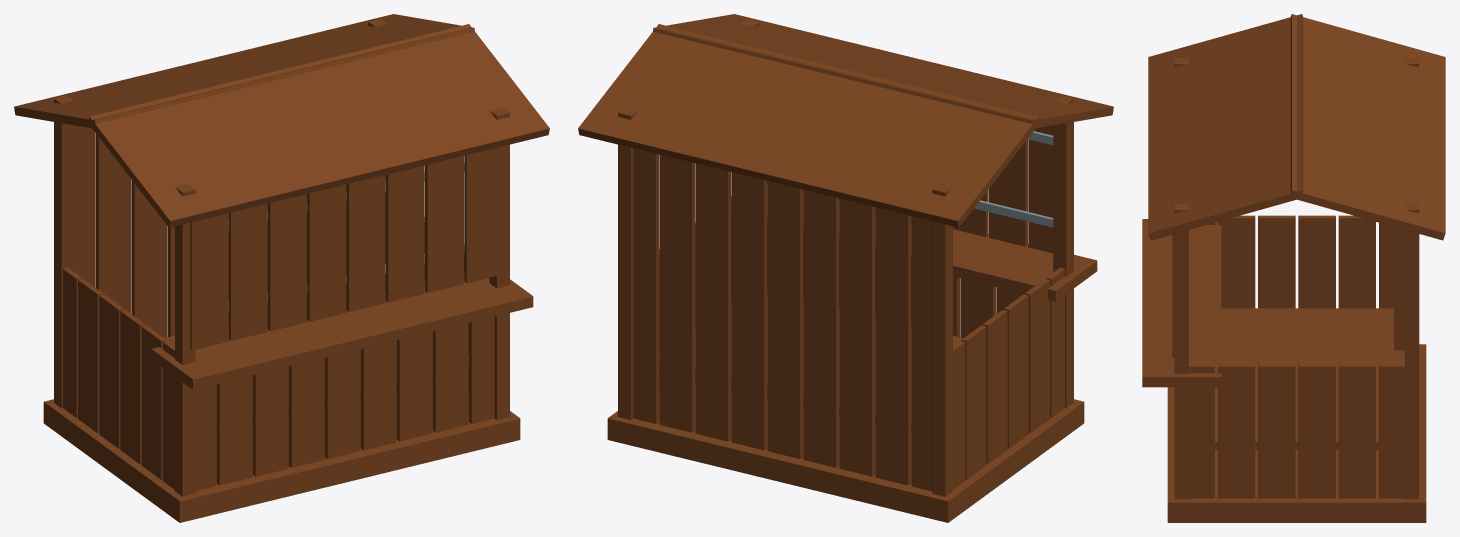
3 renders of one model, left to right at view 1: azimuth 30°, elevation 25°; view 2: azimuth 150°, elevation 25°; view 3: azimuth 270°, elevation 25°, orthographic. The views are drawn at different scales.
Parts seen in each view (by area): view 1: ROOF_PlankPanel, TIMBER_Floor, SERVING_Counter, ROOF_PlankPanel.001, BACK_Plank.002, SHUTTER_Plank.007, SHUTTER_Plank.001, SHUTTER_Plank.003, SHUTTER_Plank.004, SHUTTER_Plank.005, SHUTTER_Plank.002, SHUTTER_Plank (+22 smaller); view 2: ROOF_PlankPanel.001, TIMBER_Floor, ROOF_PlankPanel, BACK_Plank.002, BACK_Plank.003, BACK_Plank.004, BACK_Plank.006, BACK_Plank.008, BACK_Plank.005, BACK_Plank.007, BACK_Plank, BACK_Plank.001 (+16 smaller); view 3: ROOF_PlankPanel, ROOF_PlankPanel.001, STORAGE_Shelf, SERVING_Counter, TIMBER_Floor, SIDE_Plank.008, SIDE_Plank.009, SIDE_Plank.010, SIDE_Plank.007, FRAME_Post.003, FRAME_Post.002, SIDE_Plank.002 (+7 smaller).
Boxes of the visible parts, bbox=[...] form: ROOF_PlankPanel: bbox=[88, 24, 549, 227]; TIMBER_Floor: bbox=[43, 380, 520, 522]; SERVING_Counter: bbox=[151, 273, 533, 389]; ROOF_PlankPanel.001: bbox=[14, 14, 474, 128]; BACK_Plank.002: bbox=[95, 133, 131, 313]; SHUTTER_Plank.007: bbox=[464, 146, 503, 283]; SHUTTER_Plank.001: bbox=[228, 203, 267, 340]; SHUTTER_Plank.003: bbox=[307, 184, 346, 321]; SHUTTER_Plank.004: bbox=[346, 175, 385, 311]; SHUTTER_Plank.005: bbox=[385, 165, 424, 302]; SHUTTER_Plank.002: bbox=[267, 194, 306, 331]; SHUTTER_Plank: bbox=[190, 213, 228, 350]; ROOF_PlankPanel.001: bbox=[578, 24, 1038, 227]; TIMBER_Floor: bbox=[607, 380, 1084, 522]; ROOF_PlankPanel: bbox=[653, 14, 1113, 128]; BACK_Plank.002: bbox=[875, 207, 911, 485]; BACK_Plank.003: bbox=[839, 199, 875, 476]; BACK_Plank.004: bbox=[803, 190, 839, 467]; BACK_Plank.006: bbox=[731, 172, 767, 450]; BACK_Plank.008: bbox=[659, 155, 695, 432]; BACK_Plank.005: bbox=[767, 181, 803, 458]; BACK_Plank.007: bbox=[695, 163, 731, 441]; BACK_Plank: bbox=[633, 148, 659, 423]; BACK_Plank.001: bbox=[911, 216, 932, 491]; ROOF_PlankPanel: bbox=[1148, 14, 1303, 240]; ROOF_PlankPanel.001: bbox=[1290, 14, 1445, 240]; STORAGE_Shelf: bbox=[1215, 308, 1393, 449]; SERVING_Counter: bbox=[1142, 219, 1221, 387]; TIMBER_Floor: bbox=[1167, 344, 1426, 522]; SIDE_Plank.008: bbox=[1258, 364, 1295, 498]; SIDE_Plank.009: bbox=[1298, 364, 1335, 498]; SIDE_Plank.010: bbox=[1338, 364, 1375, 498]; SIDE_Plank.007: bbox=[1218, 364, 1255, 498]; FRAME_Post.003: bbox=[1405, 203, 1419, 499]; FRAME_Post.002: bbox=[1174, 203, 1188, 499]; SIDE_Plank.002: bbox=[1258, 215, 1295, 308].
Size of the model in its own units: 2.9 by 2.62 by 2.11.
